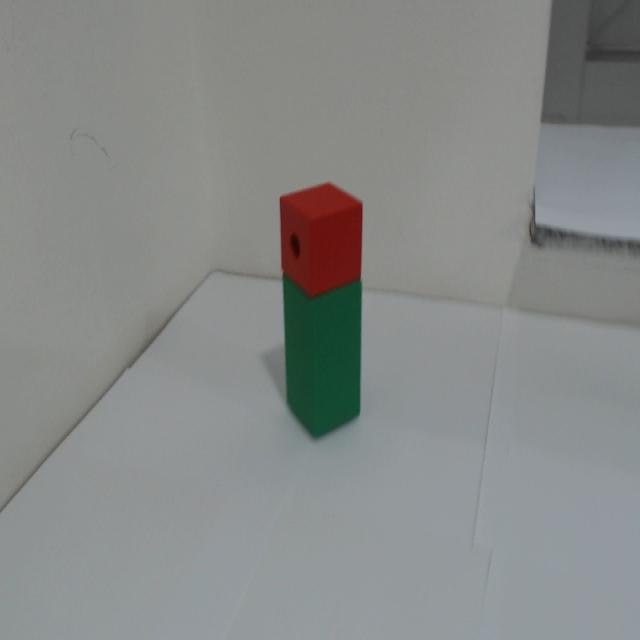cube: (279, 161, 375, 285)
